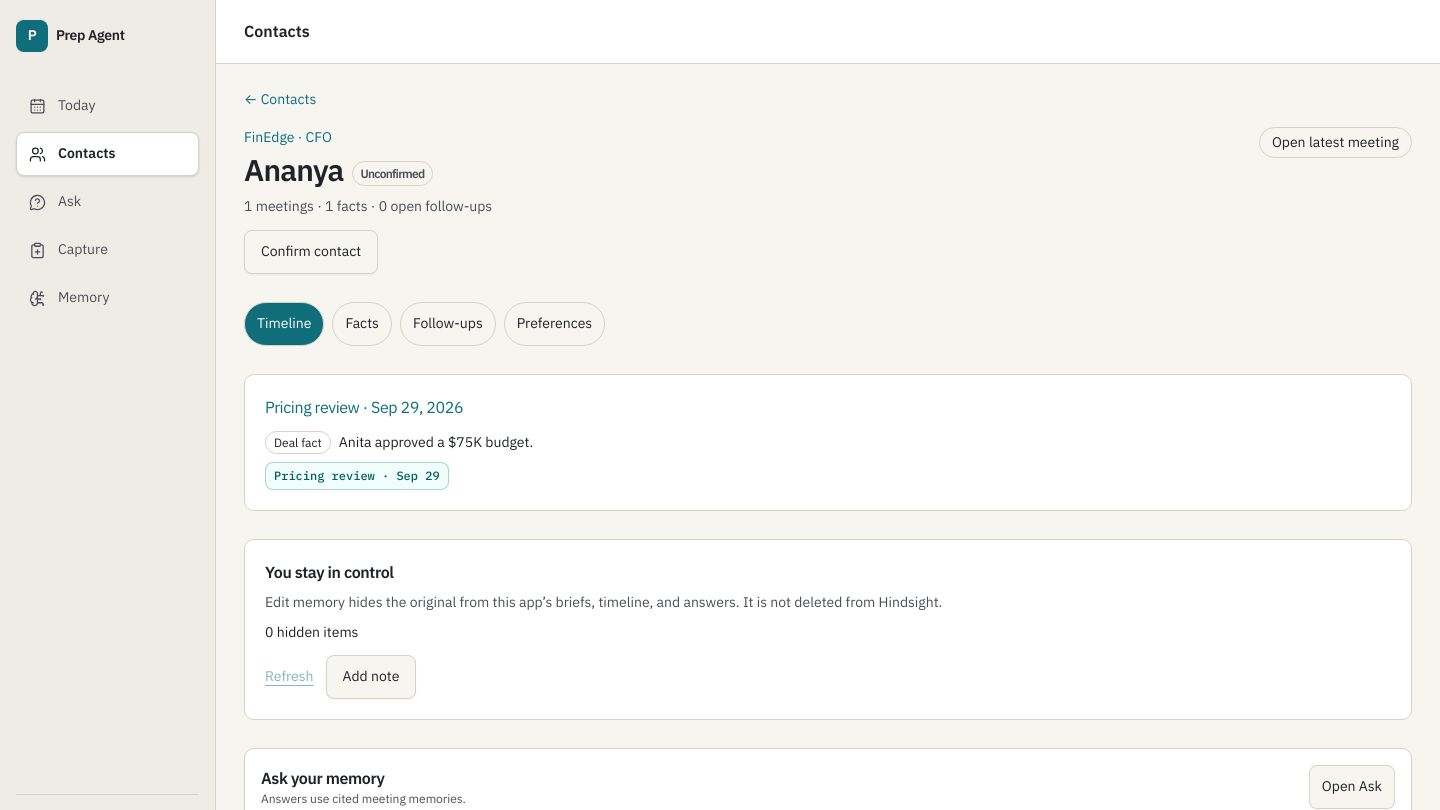
Test case: Contact profile page › confirms an unconfirmed contact with the edited name and role
Expected: the text "Unconfirmed" is shown, [352,161,433,186]
Click the button "Confirm contact" at (311, 252), box [244,230,378,274]
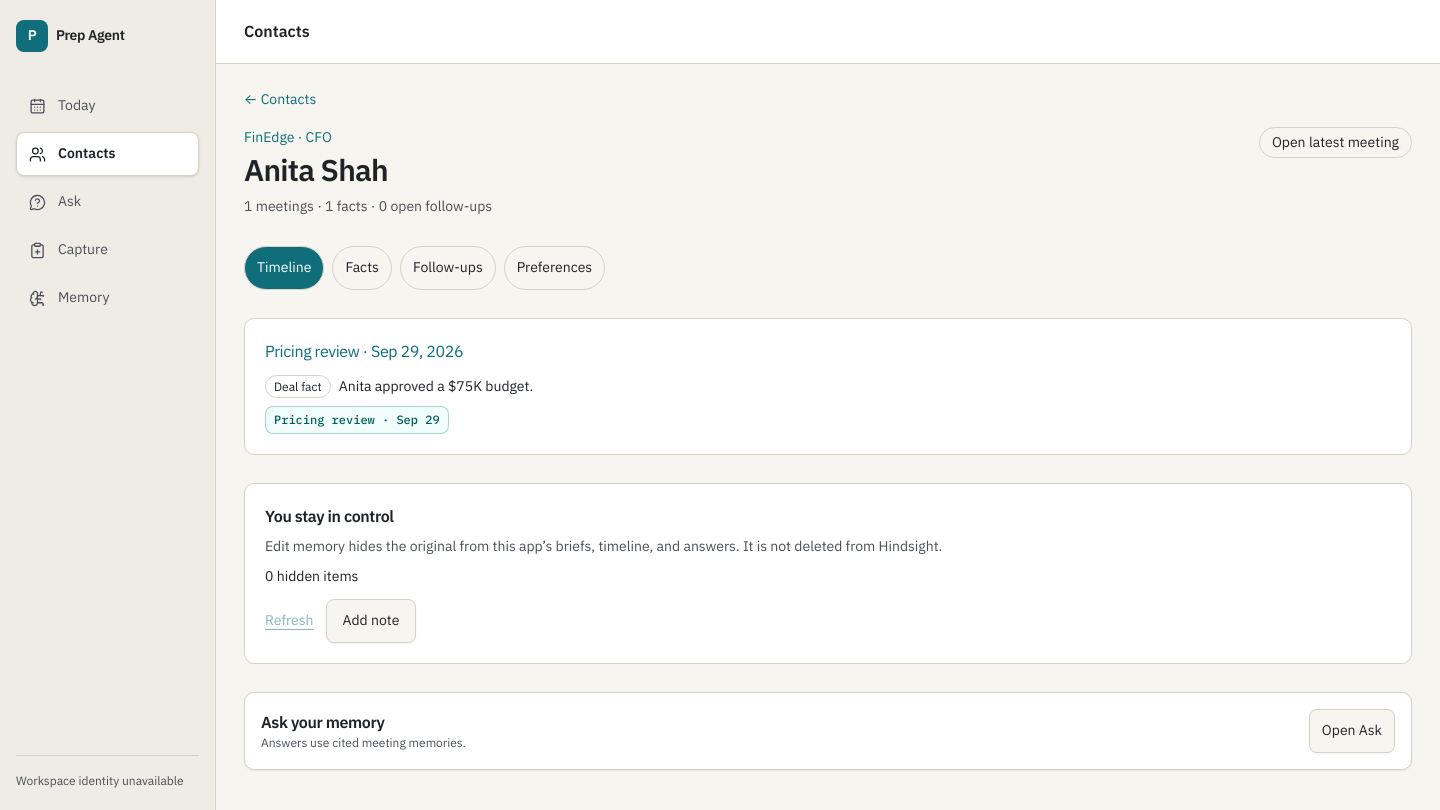
Now the heading "Anita Shah" is shown, box [244,150,388,189]
Now the text "Unconfirmed" is gone
